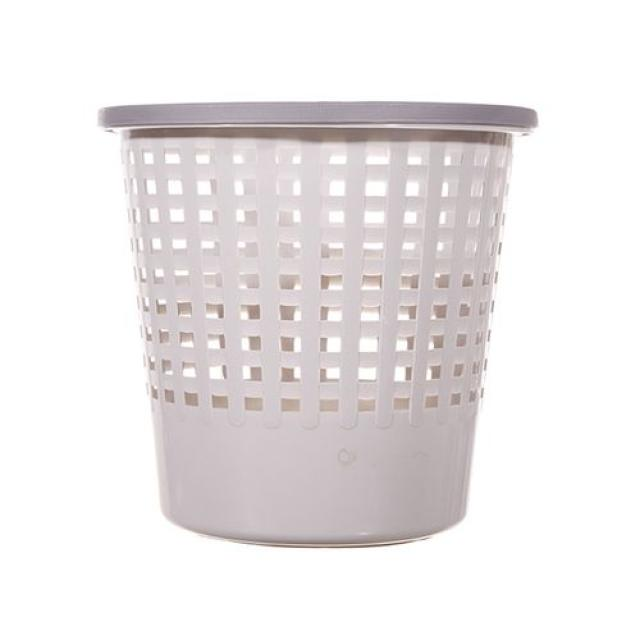dustbin: (86, 92, 544, 558)
